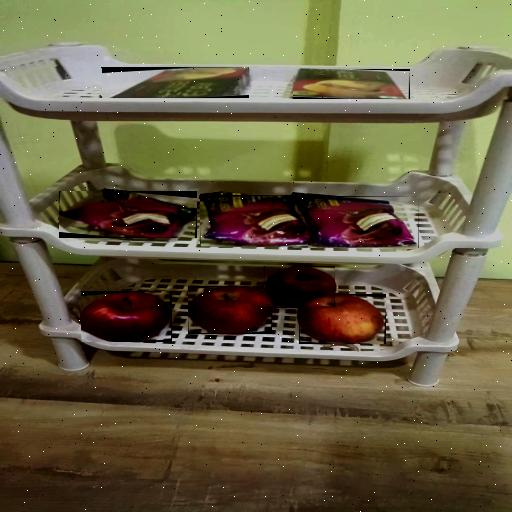Apple: (81, 291, 172, 342), (299, 294, 386, 344), (188, 286, 272, 334), (262, 266, 334, 308)
Choco Fills: (100, 67, 248, 98), (293, 69, 410, 99)
Choco Pie: (293, 196, 419, 248), (59, 191, 197, 238), (200, 195, 308, 247)
